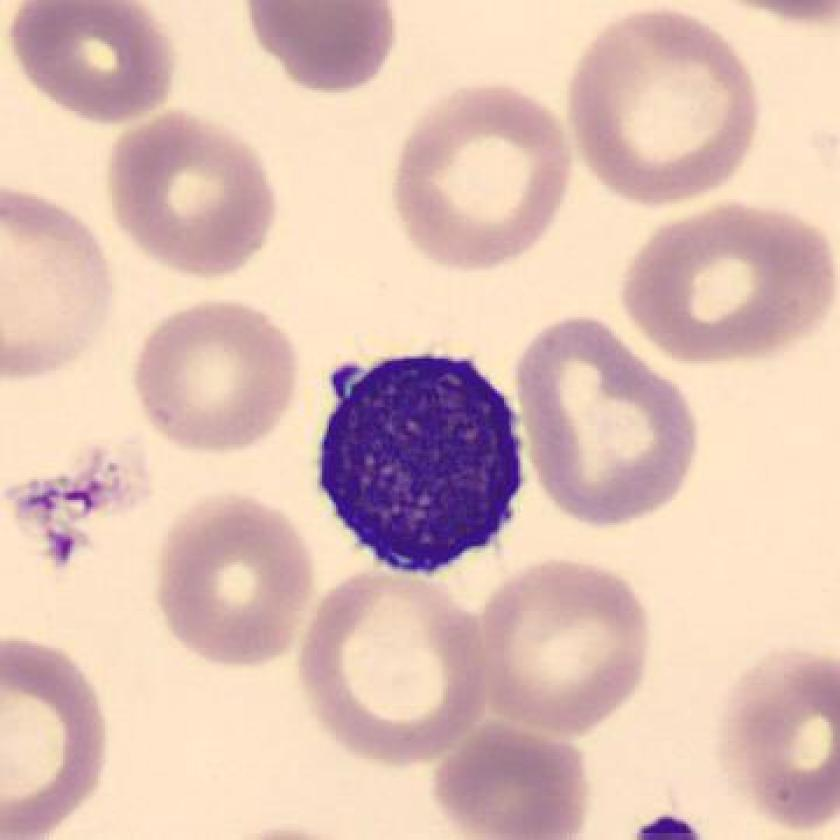lymphocyte: (302, 332, 547, 589)
